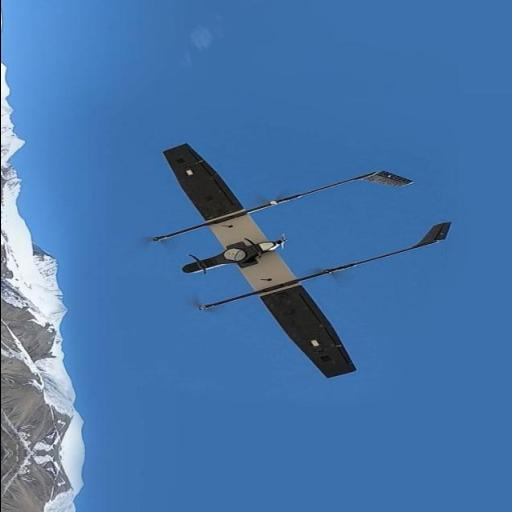uav: (136, 138, 454, 372)
